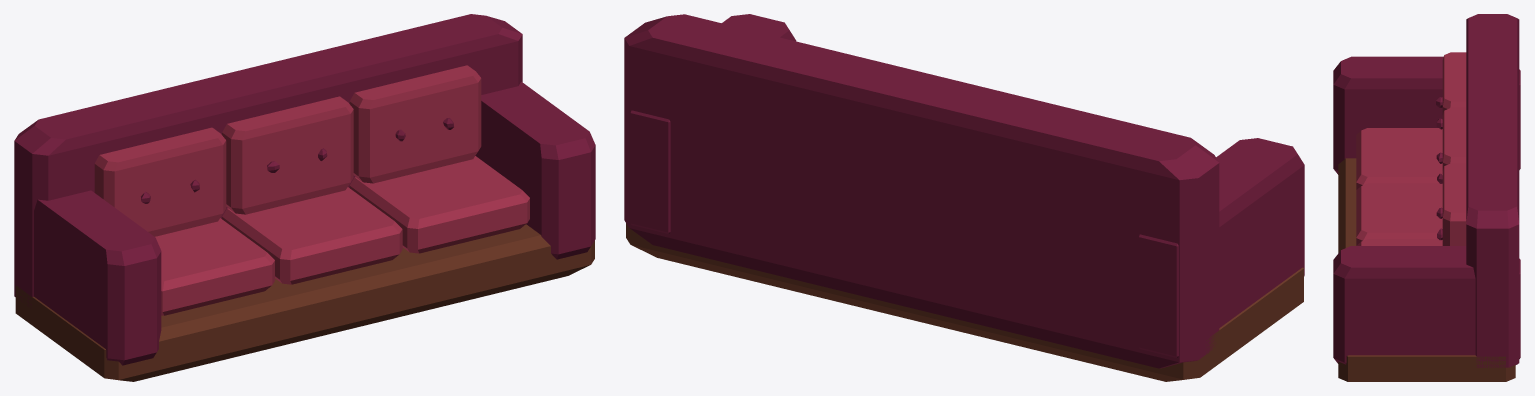
The model's file is sofa.glb.
3 views of the same model, side by side, from view 1: azimuth 30°, elevation 25°; view 2: azimuth 150°, elevation 25°; view 3: azimuth 270°, elevation 25° (orthographic). The views are drawn at different scales.
Visible parts, largest first — view 1: sofa · Crimson upholstery, sofa · Burgundy upholstery, sofa · Dark carved oak; view 2: sofa · Burgundy upholstery, sofa · Dark carved oak; view 3: sofa · Burgundy upholstery, sofa · Crimson upholstery, sofa · Dark carved oak.
Part boxes in pixels (bbox=[...]): sofa · Crimson upholstery: bbox=[94, 65, 529, 315]; sofa · Burgundy upholstery: bbox=[14, 14, 595, 365]; sofa · Dark carved oak: bbox=[15, 224, 594, 381]; sofa · Burgundy upholstery: bbox=[624, 14, 1304, 368]; sofa · Dark carved oak: bbox=[626, 223, 1303, 381]; sofa · Burgundy upholstery: bbox=[1333, 14, 1520, 367]; sofa · Crimson upholstery: bbox=[1356, 52, 1466, 245]; sofa · Dark carved oak: bbox=[1338, 158, 1515, 381].
Bounding box in the file's own units: 4 × 1.51 × 1.48.
